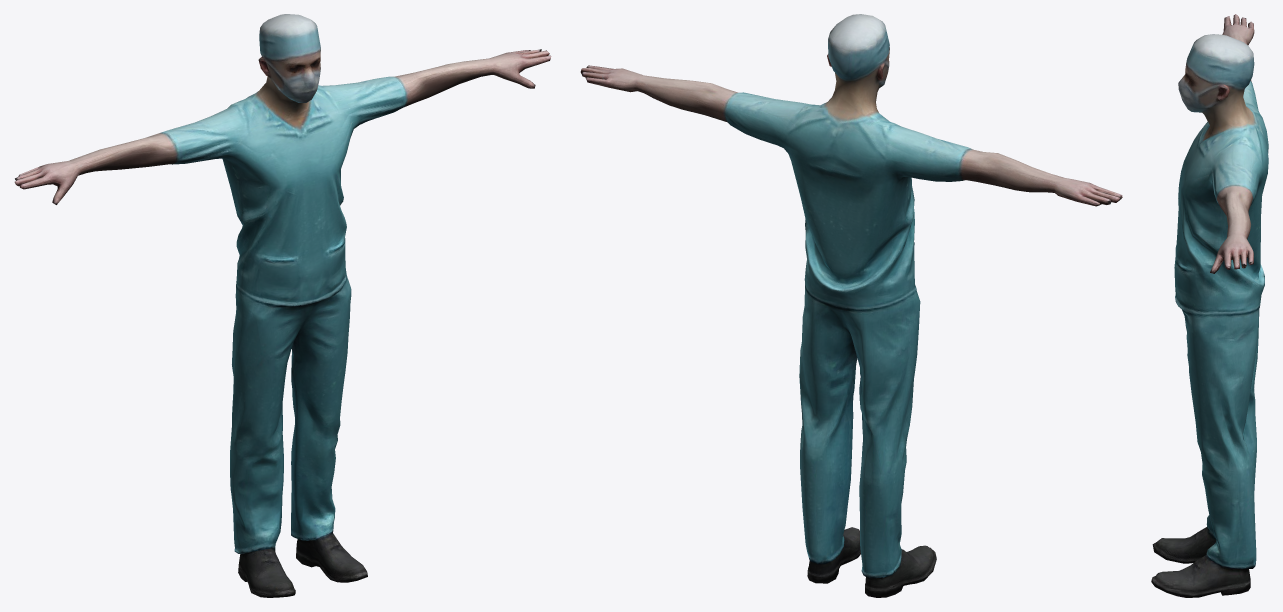
File: zombie_nurse.glb
The picture shows the model from 3 angles, left to right: view 1: azimuth 30°, elevation 25°; view 2: azimuth 150°, elevation 25°; view 3: azimuth 270°, elevation 25°; orthographic projection. The views are drawn at different scales.
Parts seen in each view (by area): view 1: zombie_nurse; view 2: zombie_nurse; view 3: zombie_nurse.
Part boxes in pixels (x1,y1,x2,y2): zombie_nurse: [14, 14, 551, 597]; zombie_nurse: [580, 14, 1122, 597]; zombie_nurse: [1151, 14, 1268, 597].
Size of the model in its own units: 1 by 0.9946 by 0.197.
1 material, 1 textured.
